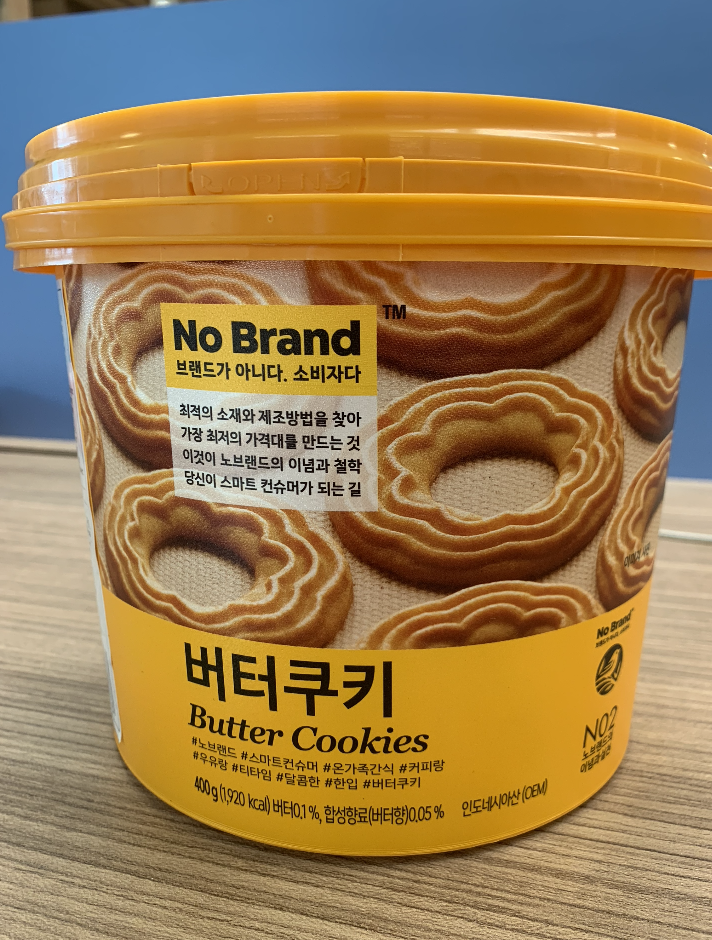cookies_400g-499g: (108, 221, 620, 787)
